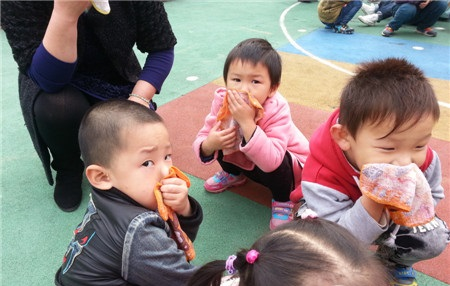face: (105, 126, 182, 206), (358, 110, 431, 184), (227, 61, 269, 105)
